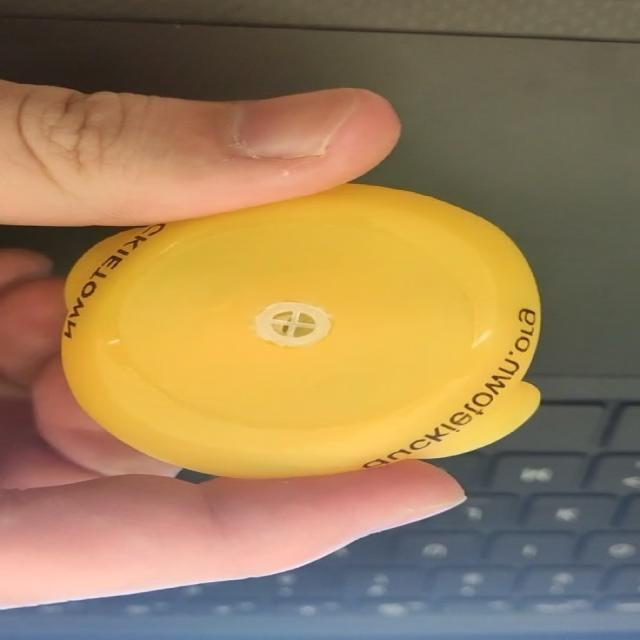rubber-duck: (61, 184, 539, 475)
